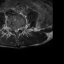CCS_stenosis: (15, 27, 17, 35)
LFS_stenosis: (19, 25, 21, 31)
LLS_normal: (17, 26, 19, 33)
RFS_severe_stenosis: (11, 27, 14, 32)
RLS_severe_stenosis: (14, 27, 15, 33)
